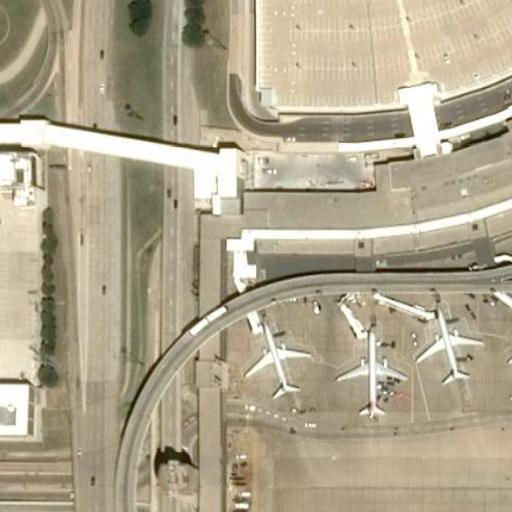Aircraft: (337, 333, 407, 416), (240, 325, 315, 400), (415, 312, 485, 383), (510, 316, 512, 391)
